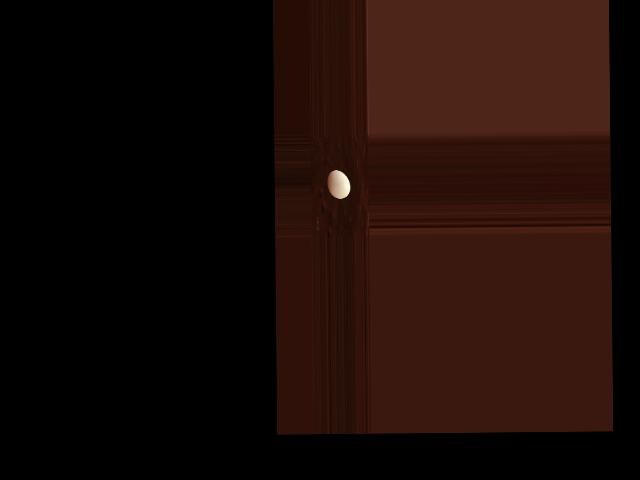egg: (327, 169, 350, 198)
